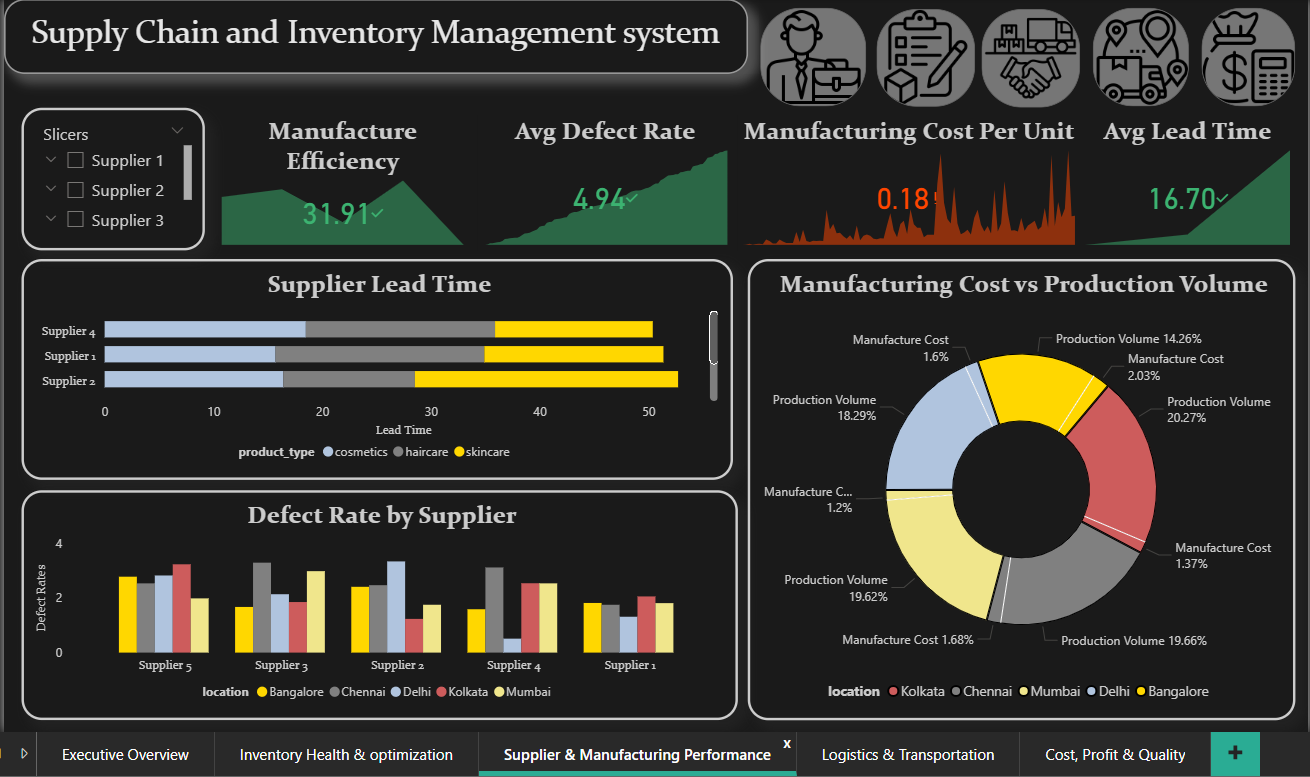

The page's visual inventory and layout, read from the dashboard file:
{"tool":"powerbi","page":{"name":"Supplier & Manufacturing Performance","canvas":[1280,720],"ordinal":2},"visuals":[{"type":"textbox","box":[0,0,730.1,73.6],"z":0},{"type":"actionButton","box":[780.4,0,452.8,114.1],"z":1000},{"type":"image","box":[742.3,8.6,104.3,96.9],"z":2000},{"type":"image","box":[856.4,9.8,96.9,95.7],"z":3000},{"type":"image","box":[959.5,9.8,96.9,96.9],"z":4000},{"type":"image","box":[1068.7,8.6,94.5,96.9],"z":5000},{"type":"image","box":[1175.5,8.6,92,96.9],"z":6000},{"type":"kpi","title":"Avg Lead Time","fields":{"Indicator":["Supply_chain_bi_data.Avg Supplier lead time"],"TrendLine":["Supply_chain_bi_data.product_type"],"Goal":["Count(Supply_chain_bi_data.product_type)"]},"box":[1056.4,114.1,211,132.5],"z":7000},{"type":"kpi","title":"Manufacture Efficiency","fields":{"Indicator":["Supply_chain_bi_data.Manufacture Efficiency"],"TrendLine":["Supply_chain_bi_data.supplier_name"],"Goal":["CountNonNull(Supply_chain_bi_data.product_type)"]},"box":[208.6,114.1,247.9,132.5],"z":8000},{"type":"kpi","title":"Avg Defect Rate","fields":{"Indicator":["Supply_chain_bi_data.Avg Defect rate"],"Goal":["CountNonNull(Supply_chain_bi_data.product_type)"],"TrendLine":["Supply_chain_bi_data.defect_rates"]},"box":[465,114.1,250.3,132.5],"z":9000},{"type":"kpi","title":"Manufacturing Cost Per Unit","fields":{"Indicator":["Supply_chain_bi_data.Cost per Unit"],"TrendLine":["Supply_chain_bi_data.manufacturing_costs"],"Goal":["CountNonNull(Supply_chain_bi_data.product_type)"]},"box":[720.2,114.1,336.2,132.5],"z":10000},{"type":"slicer","fields":{"Values":["Supply_chain_bi_data.supplier_name","Supply_chain_bi_data.product_type","Supply_chain_bi_data.location","Supply_chain_bi_data.transportation_modes","Supply_chain_bi_data.inspection_results"]},"box":[17.2,106.7,180.4,139.9],"z":11000},{"type":"barChart","title":"Supplier Lead Time","fields":{"Y":["Avg(Supply_chain_bi_data.lead_times)"],"Category":["Supply_chain_bi_data.supplier_name"],"Series":["Supply_chain_bi_data.product_type"]},"box":[17.2,255.2,698.2,217.2],"z":12000},{"type":"clusteredColumnChart","title":"Defect Rate by Supplier ","fields":{"Category":["Supply_chain_bi_data.supplier_name"],"Y":["Avg(Supply_chain_bi_data.defect_rates)"],"Series":["Supply_chain_bi_data.location"]},"box":[17.2,482.2,703.1,225.8],"z":13000},{"type":"donutChart","title":"Manufacturing Cost vs Production Volume","fields":{"Category":["Supply_chain_bi_data.location"],"Y":["Avg(Supply_chain_bi_data.production_volumes)","Avg(Supply_chain_bi_data.manufacturing_costs)"]},"box":[730.1,255.2,537.4,452.8],"z":14000}]}

Visuals, with their boxes on the page's 1280x720 design canvas (x1, y1, x2, y2). These are canvas units, not pixel positions in the 1310x777 screenshot, which may show the page scaled, cropped or inside an application window:
textbox: (0, 0, 730, 74)
actionButton: (780, 0, 1233, 114)
image: (742, 9, 847, 106)
image: (856, 10, 953, 106)
image: (960, 10, 1056, 107)
image: (1069, 9, 1163, 106)
image: (1176, 9, 1268, 106)
"Avg Lead Time" kpi: (1056, 114, 1267, 247)
"Manufacture Efficiency" kpi: (209, 114, 456, 247)
"Avg Defect Rate" kpi: (465, 114, 715, 247)
"Manufacturing Cost Per Unit" kpi: (720, 114, 1056, 247)
slicer - Supply_chain_bi_data.supplier_name x Supply_chain_bi_data.product_type: (17, 107, 198, 247)
"Supplier Lead Time" barChart: (17, 255, 715, 472)
"Defect Rate by Supplier " clusteredColumnChart: (17, 482, 720, 708)
"Manufacturing Cost vs Production Volume" donutChart: (730, 255, 1268, 708)
